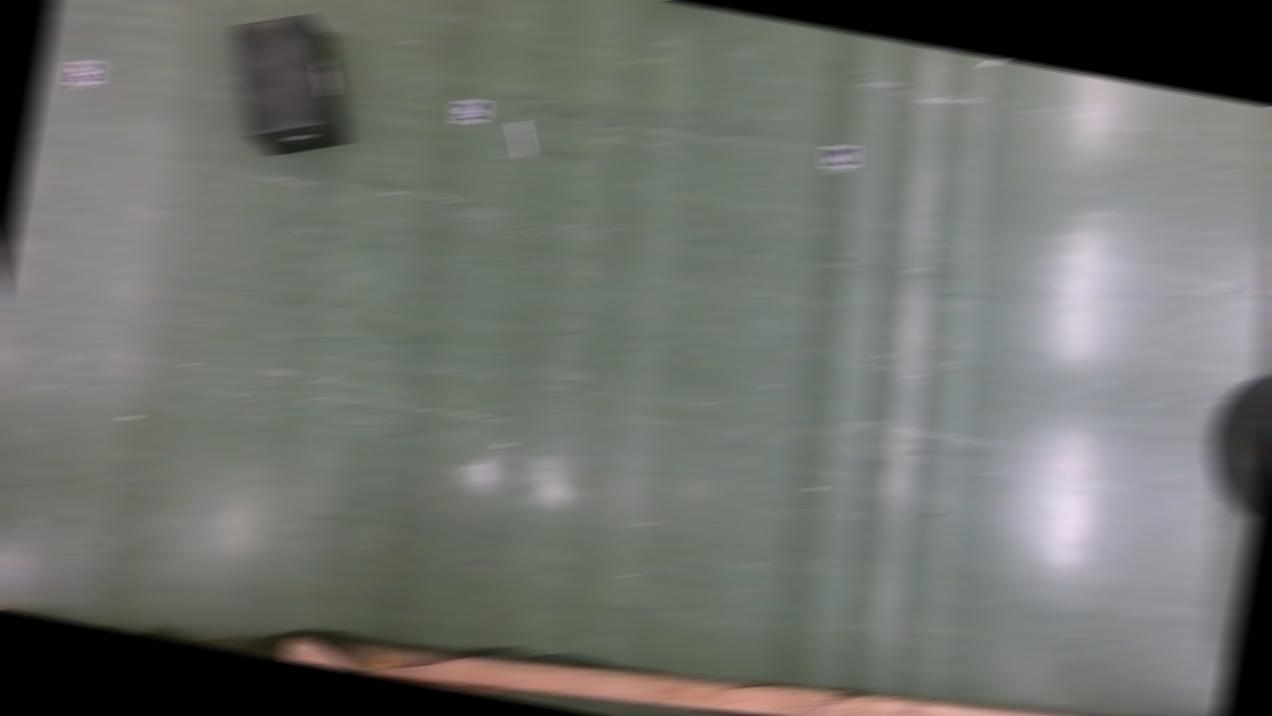probes: (506, 122, 538, 162), (978, 56, 1008, 72)
rako: (207, 3, 370, 170)
